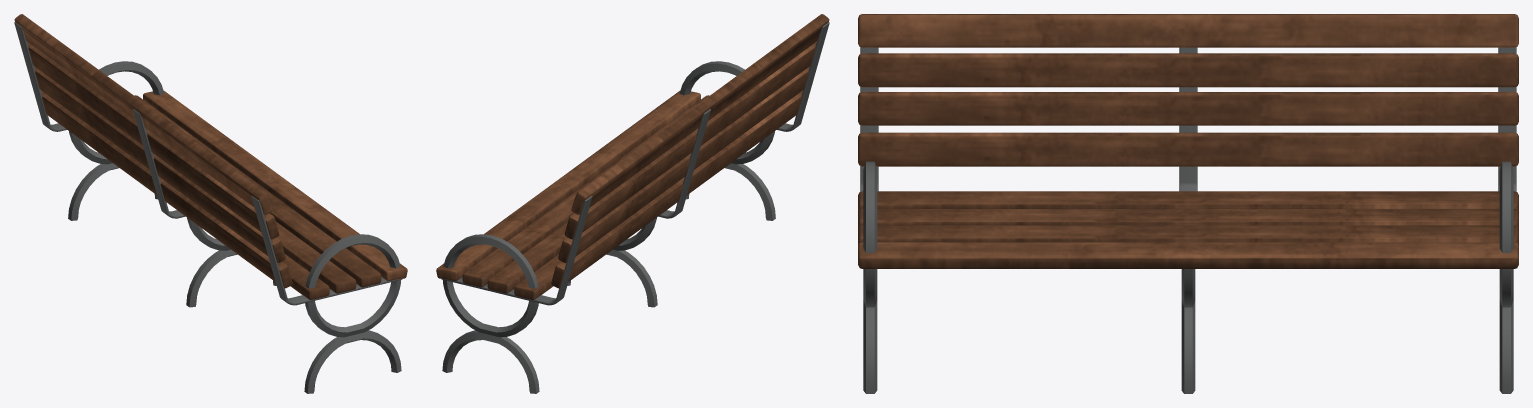
File: bench.obj
3 renders of one model, left to right at view 1: azimuth 30°, elevation 25°; view 2: azimuth 150°, elevation 25°; view 3: azimuth 270°, elevation 25°, orthographic. The views are drawn at different scales.
Visible parts, largest first — view 1: polySurface38; view 2: polySurface38; view 3: polySurface38.
Boxes of the visible parts, <box> form: polySurface38: <box>14,14,407,393</box>; polySurface38: <box>436,14,829,393</box>; polySurface38: <box>858,14,1518,393</box>.
Bounding box in the file's own units: 0.0706 × 0.0962 × 0.1998.
1 material, 1 textured.
